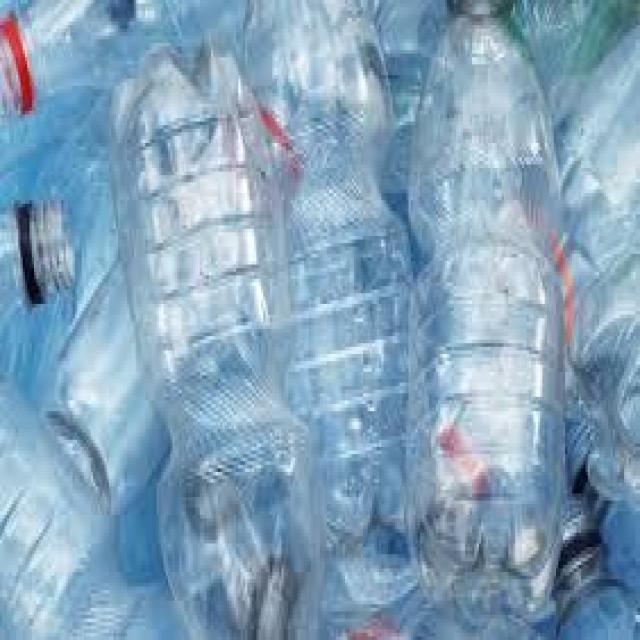Plastic: (112, 38, 318, 640), (244, 2, 436, 550), (408, 0, 564, 617)
